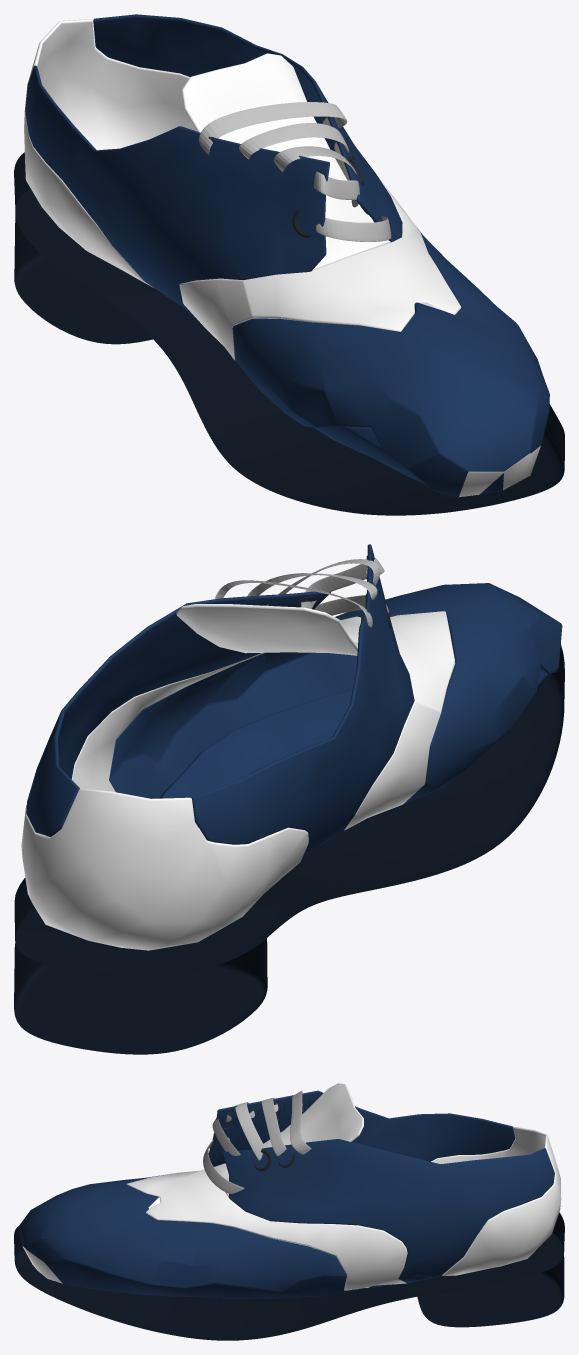
Rendered from za2pri1izquierda.fbx.
3 views of the same model, one above another, from view 1: azimuth 30°, elevation 25°; view 2: azimuth 150°, elevation 25°; view 3: azimuth 270°, elevation 25° (orthographic). The views are drawn at different scales.
Visible parts, largest first — view 1: zapato2, Plane, Plane.004, Plane.003, Plane.005, Plane.002, Plane.001; view 2: zapato2, Plane, Plane.002, Plane.003, Plane.005, Plane.004; view 3: zapato2, Plane, Plane.001, Plane.003, Plane.004, Plane.005, Plane.002.
Part boxes in pixels (box(x1,y1,x2,y2)): zapato2: box(24, 14, 549, 497); Plane: box(14, 152, 564, 515); Plane.004: box(198, 102, 347, 154); Plane.003: box(239, 123, 348, 159); Plane.005: box(316, 216, 391, 241); Plane.002: box(313, 171, 359, 207); Plane.001: box(273, 146, 356, 174); zapato2: box(21, 544, 562, 950); Plane: box(14, 644, 564, 1054); Plane.002: box(301, 558, 384, 608); Plane.003: box(247, 573, 377, 610); Plane.005: box(314, 595, 388, 615); Plane.004: box(215, 580, 372, 627); zapato2: box(18, 1083, 561, 1298); Plane: box(14, 1212, 564, 1340); Plane.001: box(235, 1102, 265, 1160); Plane.003: box(261, 1098, 286, 1156); Plane.004: box(290, 1091, 311, 1154); Plane.005: box(203, 1137, 244, 1193); Plane.002: box(212, 1115, 240, 1155).
Size of the model in its own units: 169 by 176 by 447.
